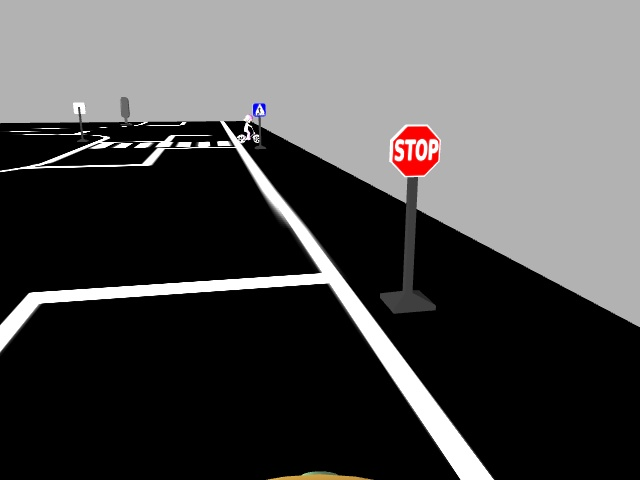Stop: (388, 121, 444, 177)
